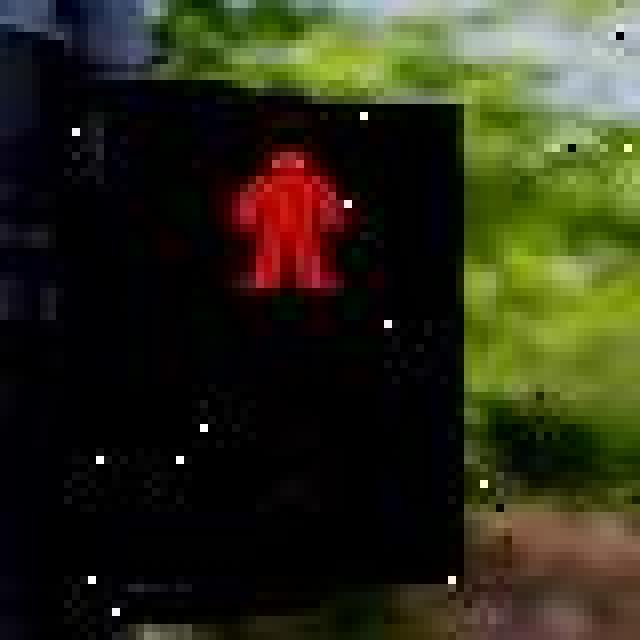redlight: (0, 88, 480, 632)
